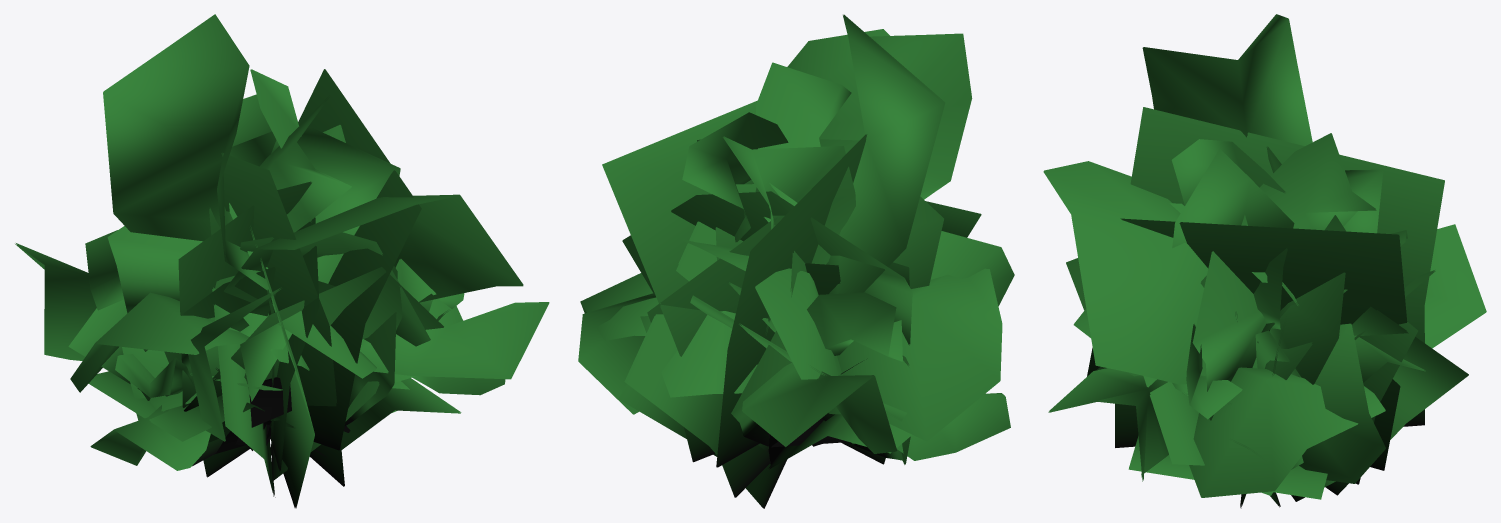
File: bush.glb
3 views of the same model, side by side, from view 1: azimuth 30°, elevation 25°; view 2: azimuth 150°, elevation 25°; view 3: azimuth 270°, elevation 25° (orthographic). The views are drawn at different scales.
Visible parts, largest first — view 1: stklib_autumnSmallBush_a_main; view 2: stklib_autumnSmallBush_a_main; view 3: stklib_autumnSmallBush_a_main.
Part boxes in pixels (left/top/right/bottom): stklib_autumnSmallBush_a_main: left=15, top=14, right=549, bottom=508; stklib_autumnSmallBush_a_main: left=578, top=14, right=1014, bottom=508; stklib_autumnSmallBush_a_main: left=1043, top=14, right=1486, bottom=508.
Size of the model in its own units: 3.88 by 4.41 by 3.86.
